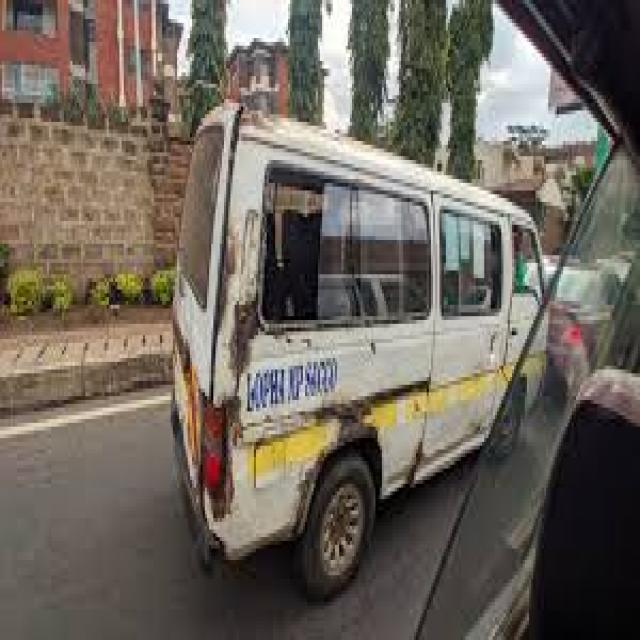matatu: (133, 73, 573, 623)
